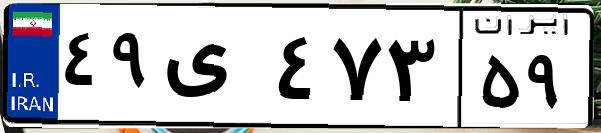3: (385, 28, 445, 110)
4: (270, 28, 330, 110), (57, 26, 110, 100)
5: (475, 38, 525, 113)
7: (330, 28, 385, 110)
9: (525, 38, 570, 115), (110, 28, 158, 98)
ی: (158, 20, 270, 120)
